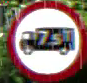Heavy Vehicles: (7, 1, 86, 81)
